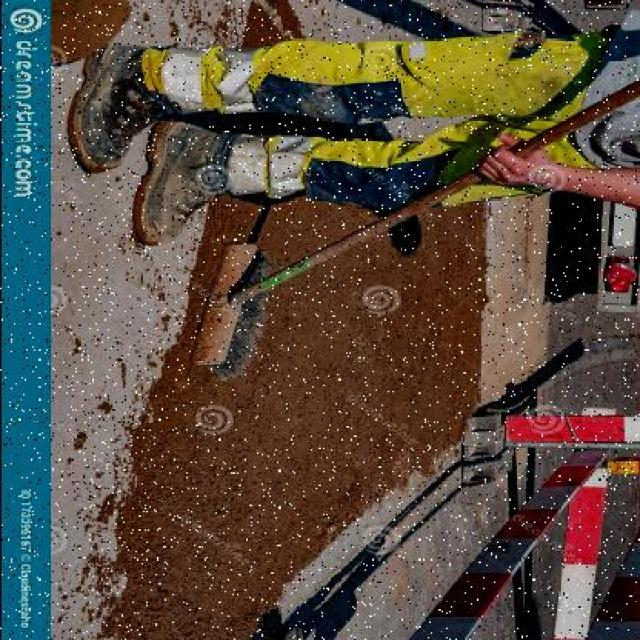shoes: (63, 38, 166, 174), (128, 123, 220, 240)
